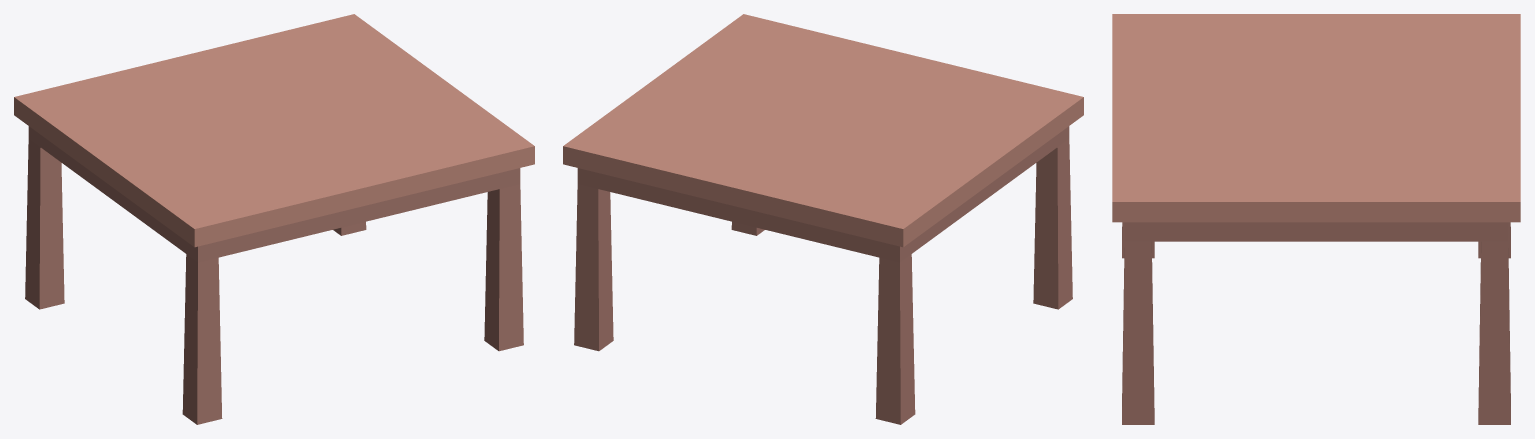
Rendered from Table.glb.
3 renders of one model, left to right at view 1: azimuth 30°, elevation 25°; view 2: azimuth 150°, elevation 25°; view 3: azimuth 270°, elevation 25°, orthographic. The views are drawn at different scales.
Parts seen in each view (by area): view 1: Wood.014, DarkWood.012; view 2: Wood.014, DarkWood.012; view 3: Wood.014, DarkWood.012.
Part boxes in pixels (<box>): Wood.014: <box>14,14,534,247</box>; DarkWood.012: <box>25,126,523,424</box>; Wood.014: <box>563,14,1083,247</box>; DarkWood.012: <box>574,126,1072,424</box>; Wood.014: <box>1112,14,1520,222</box>; DarkWood.012: <box>1122,222,1510,424</box>.
Size of the model in its own units: 1.11 by 0.6228 by 1.02.
